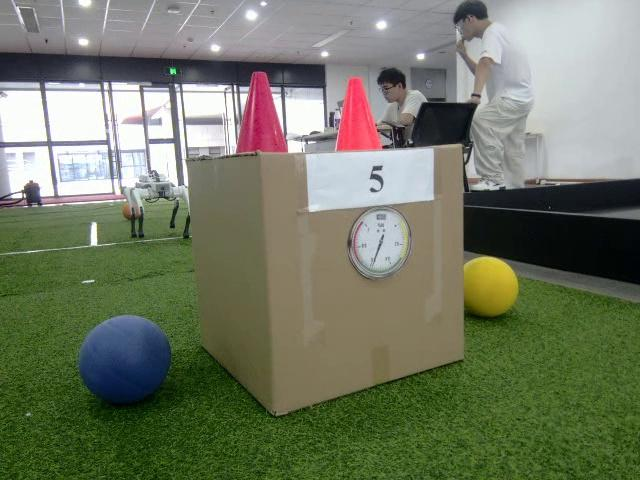5: (367, 162, 386, 195)
Dashboard: (348, 207, 414, 280)
blue_ball: (79, 314, 172, 399)
orange_barrel: (337, 77, 382, 151)
red_barrel: (237, 71, 288, 154)
ssi: (375, 214, 389, 221)
yellow_ball: (462, 258, 519, 318)
